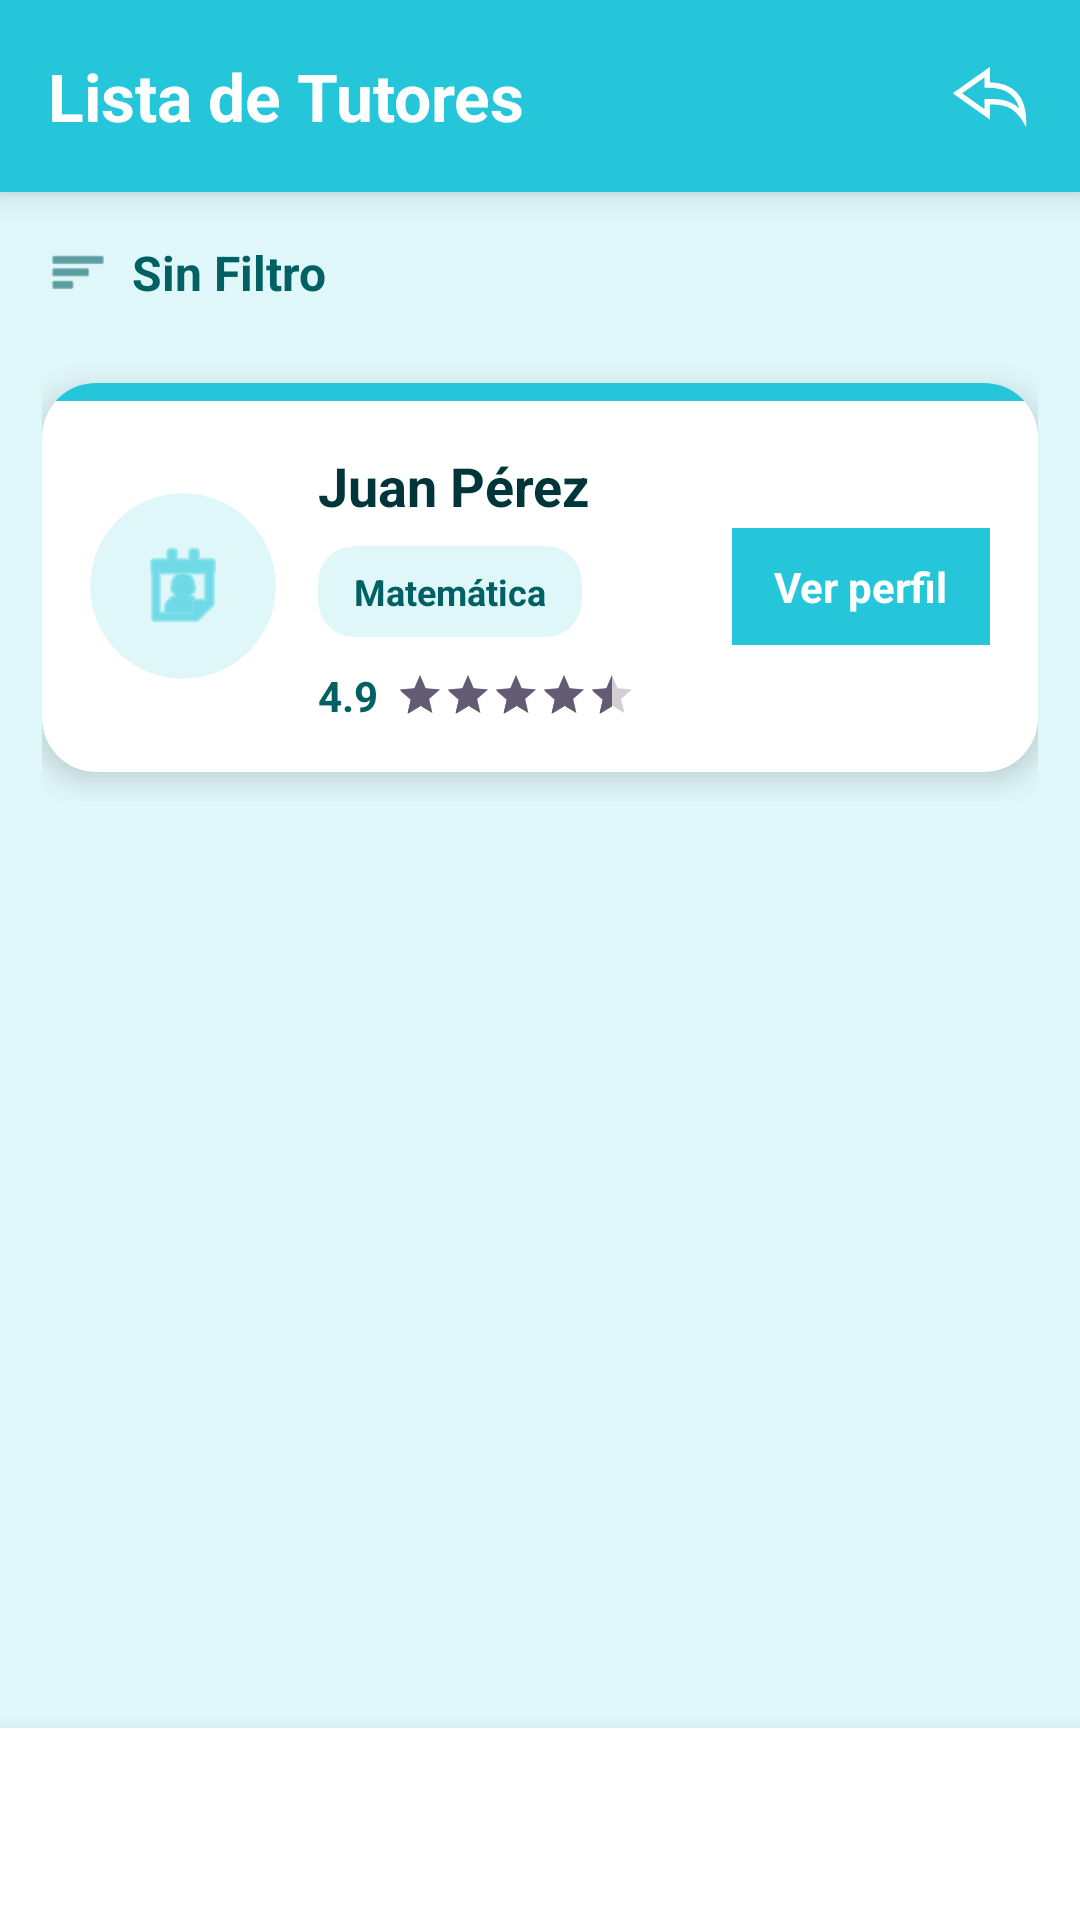

Screen size 1080 × 1920. Icon name, then its box in pixels as (x1, y1, x2, y2):
back: (953, 67, 1027, 127)
calendar: (90, 493, 276, 679)
sort by size: (52, 255, 104, 289)
